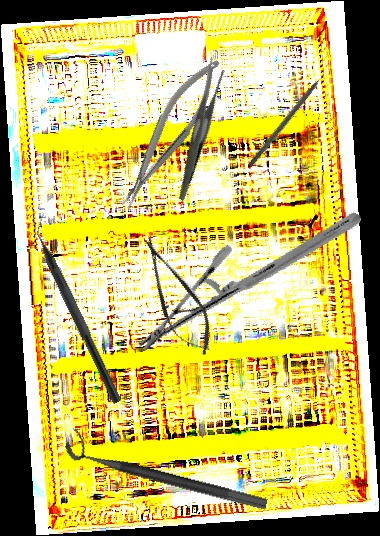Chopper: (23, 210, 135, 405)
Dressing Forceps: (139, 63, 258, 202)
Fixation Ring: (62, 427, 273, 512)
Hook Surgical: (247, 66, 332, 169)
Micro Scissor: (127, 226, 224, 365)
Needle Holder: (137, 151, 363, 412), (105, 50, 233, 215)
